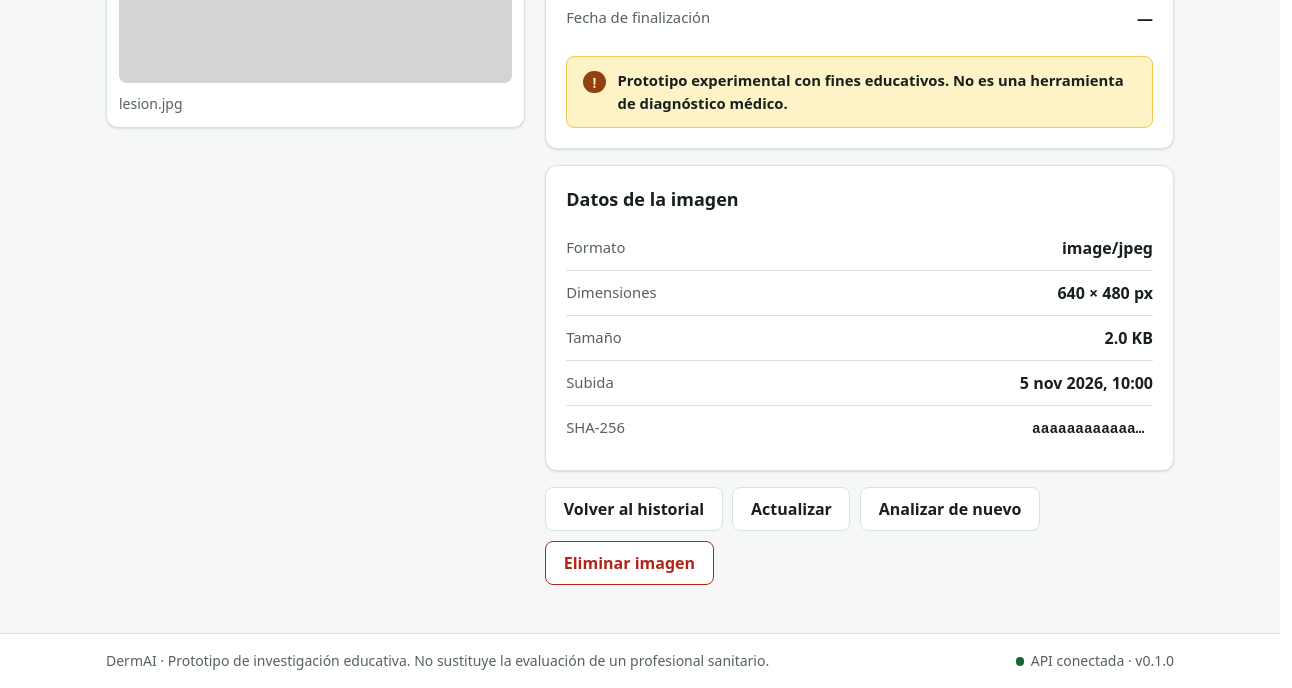
Test case: AnalysisPage › muestra el error si falla la eliminación y permite seguir en la página
(page scrolled)
Click the button "Eliminar imagen" at (629, 563), box [545,541,714,585]
(page scrolled)
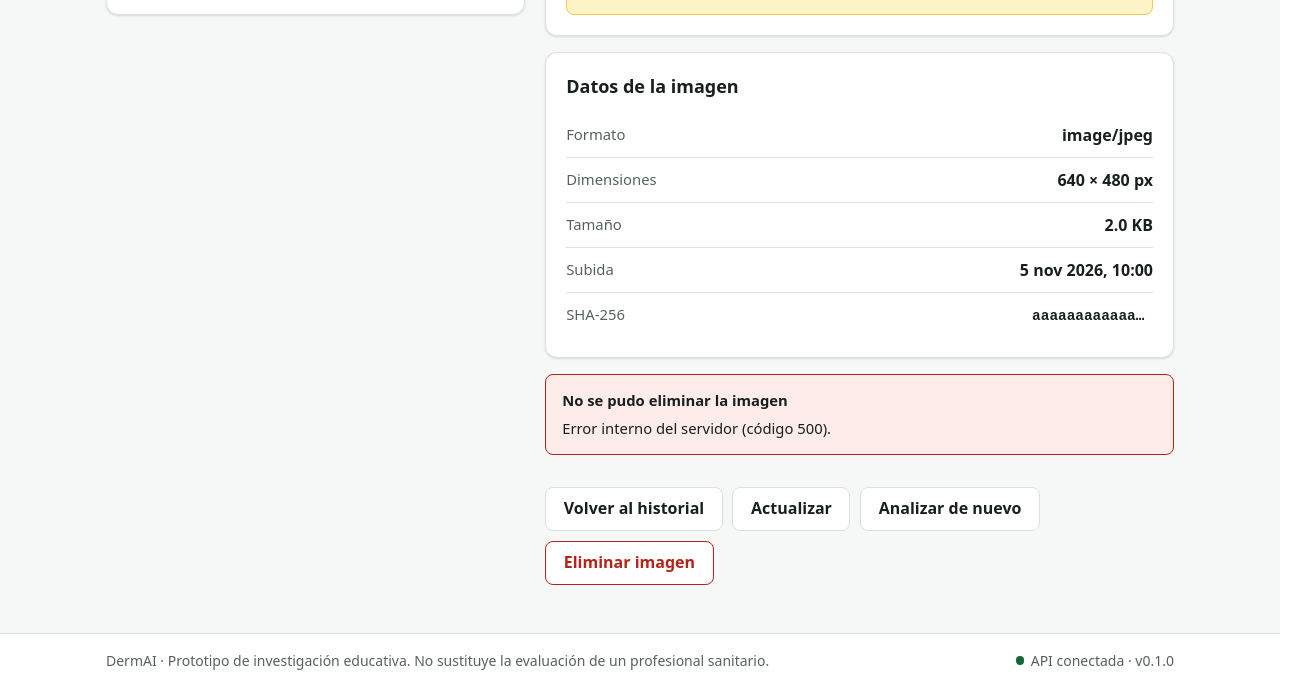
Expected: the message "No se pudo eliminar la imagen Error interno del servidor (código 500)." is shown, [545,374,1174,454]
